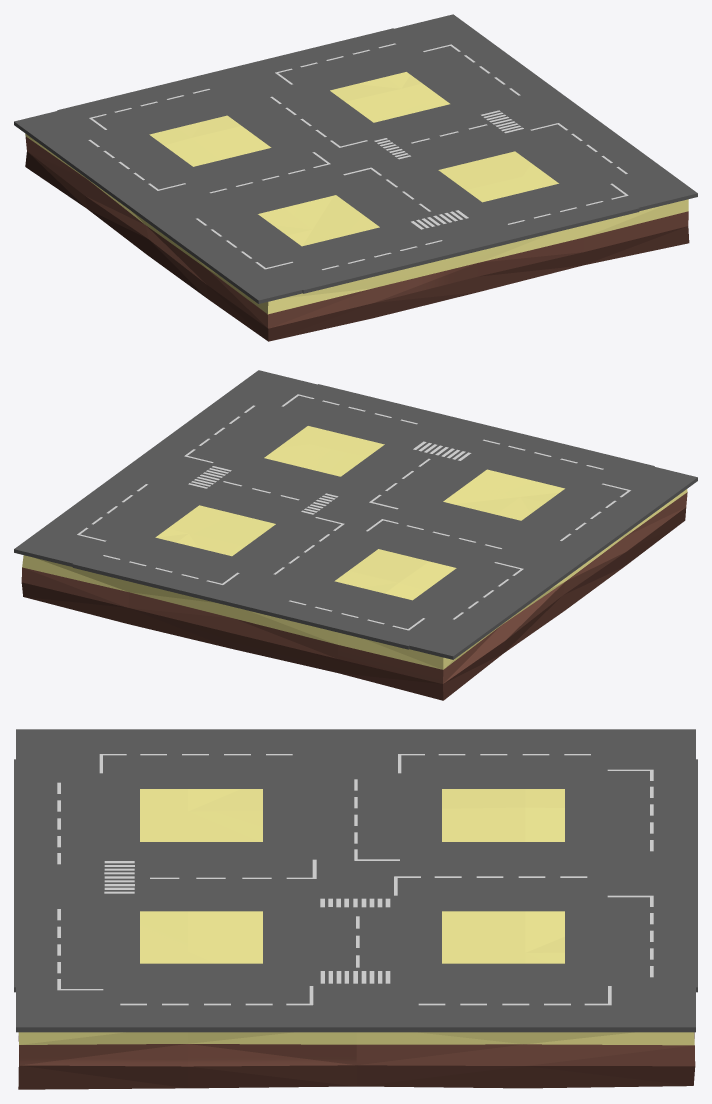
File: block_base.obj
3 renders of one model, top to bottom at view 1: azimuth 30°, elevation 25°; view 2: azimuth 150°, elevation 25°; view 3: azimuth 270°, elevation 25°, orthographic. The views are drawn at different scales.
Visible parts, largest first — view 1: ROAD, Floor_4, ROAD.Lines.12; view 2: ROAD, Floor_4, ROAD.Lines.12; view 3: ROAD, Floor_4, ROAD.Lines.12.
Part boxes in pixels (bbox=[...]): ROAD: bbox=[14, 14, 697, 303]; Floor_4: bbox=[25, 72, 689, 341]; ROAD.Lines.12: bbox=[88, 43, 628, 269]; ROAD: bbox=[14, 370, 697, 659]; Floor_4: bbox=[21, 426, 687, 700]; ROAD.Lines.12: bbox=[77, 394, 630, 630]; ROAD: bbox=[14, 729, 697, 1032]; Floor_4: bbox=[18, 789, 695, 1089]; ROAD.Lines.12: bbox=[57, 754, 653, 1005].
Bounding box in the file's own units: 57.85 × 6.15 × 56.11.
Materials: 1 (1 with a texture image).
